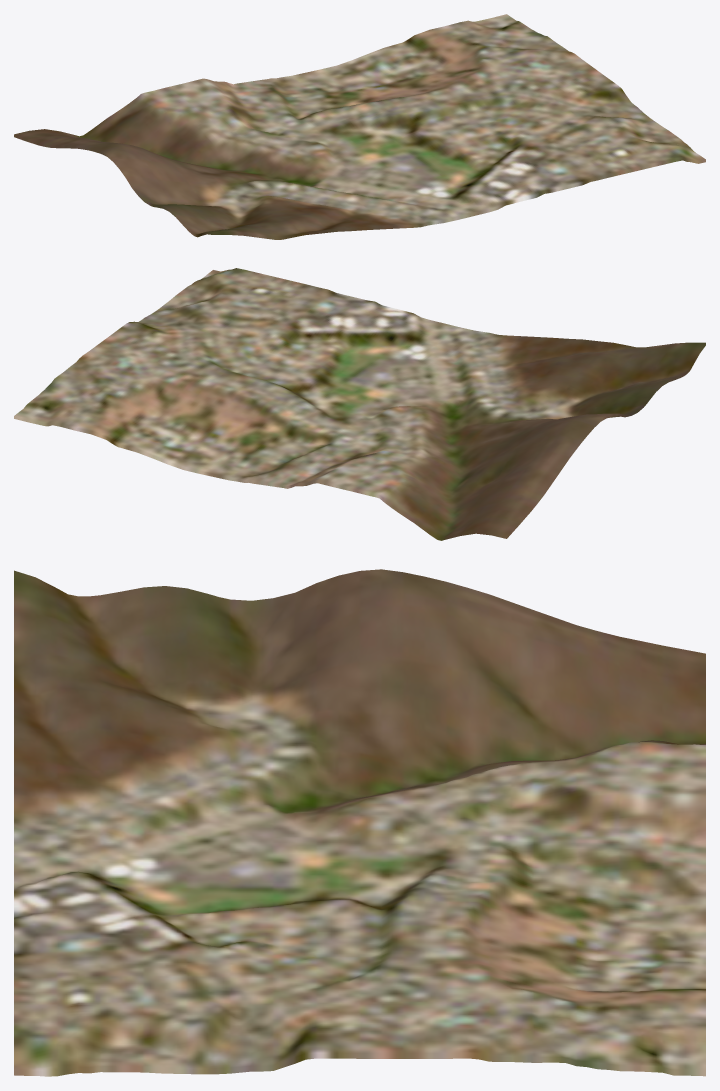
Rendered from terrain_r7_c6_lod1.glb.
3 views of the same model, one above another, from view 1: azimuth 30°, elevation 25°; view 2: azimuth 150°, elevation 25°; view 3: azimuth 270°, elevation 25° (orthographic). The views are drawn at different scales.
Visible parts, largest first — view 1: terrain_r7_c6_lod1; view 2: terrain_r7_c6_lod1; view 3: terrain_r7_c6_lod1.
Boxes of the visible parts, box(x1,y1,x2,y2) form: terrain_r7_c6_lod1: box(14, 14, 705, 239); terrain_r7_c6_lod1: box(14, 268, 705, 540); terrain_r7_c6_lod1: box(14, 569, 705, 1076).
Bounding box in the file's own units: 1125 × 151 × 787.
Materials: 1 (1 with a texture image).
